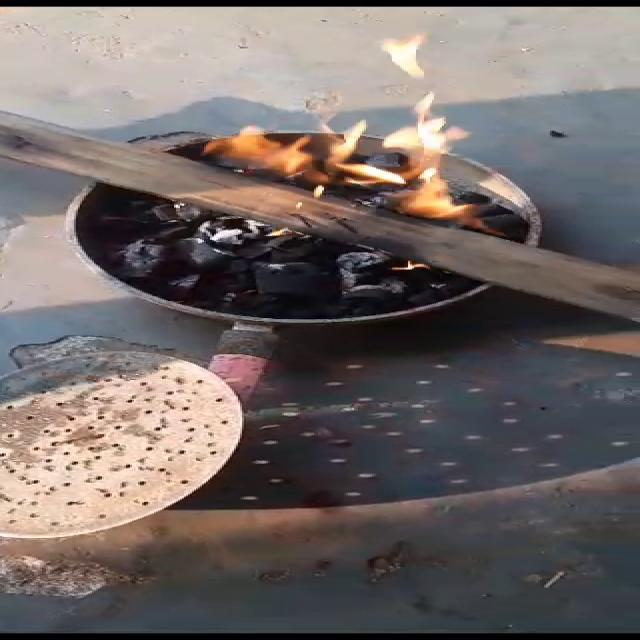Fire: (194, 76, 522, 241)
